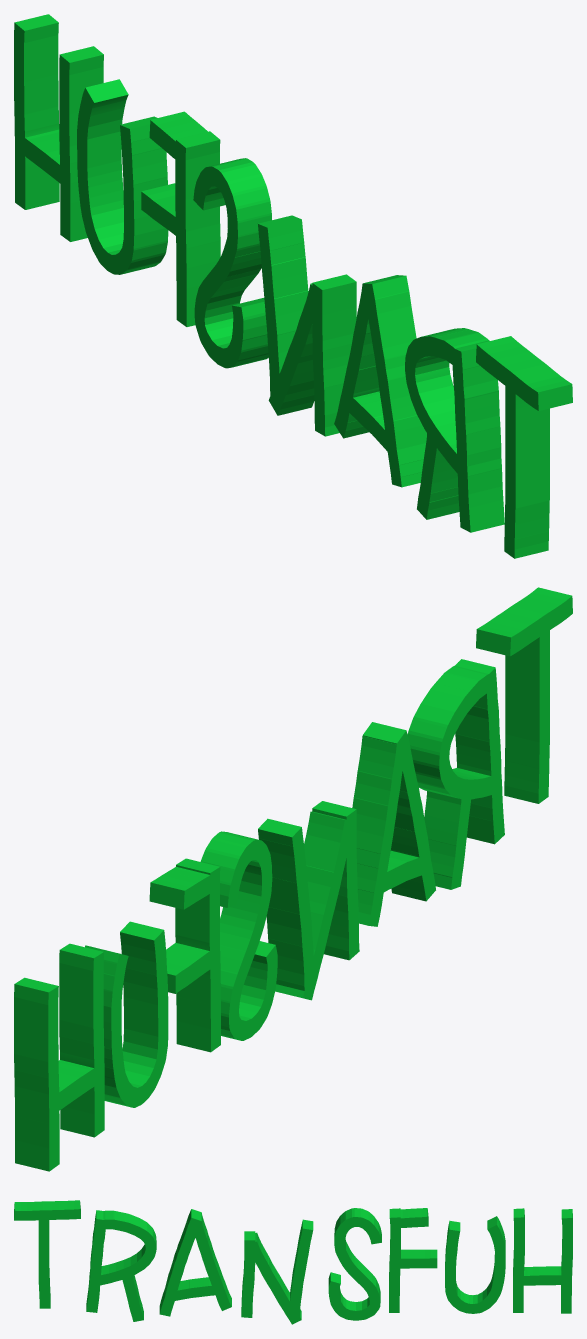
Rendered from Transfuh.gltf.
3 views of the same model, one above another, from view 1: azimuth 30°, elevation 25°; view 2: azimuth 150°, elevation 25°; view 3: azimuth 270°, elevation 25° (orthographic). The views are drawn at different scales.
Parts seen in each view (by area): view 1: mesh_0; view 2: mesh_0; view 3: mesh_0.
Boxes of the visible parts, box(x1,y1,x2,y2) form: mesh_0: box(14, 14, 572, 558); mesh_0: box(14, 587, 572, 1171); mesh_0: box(14, 1200, 572, 1324).
Size of the model in its own units: 0.02 by 0.1211 by 0.5298.
